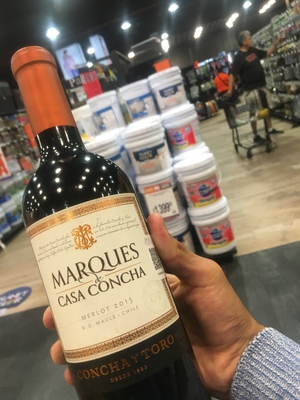marques de casa concha merlot: (8, 48, 194, 400)
